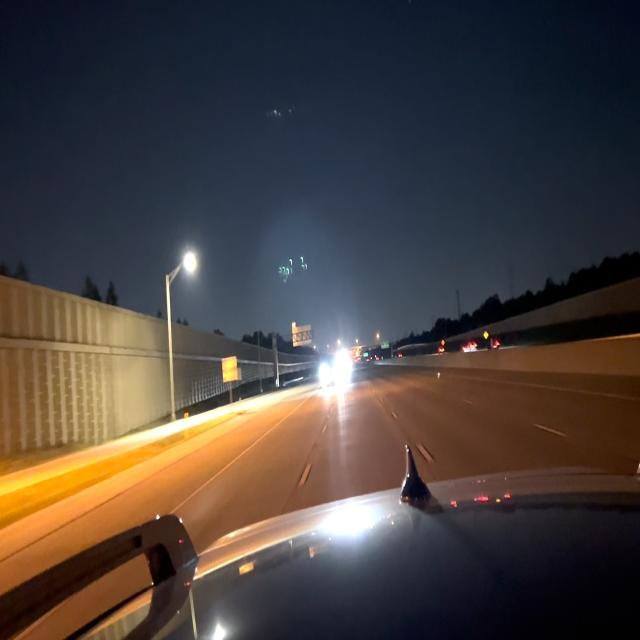back-of-sign: (222, 356, 238, 382)
